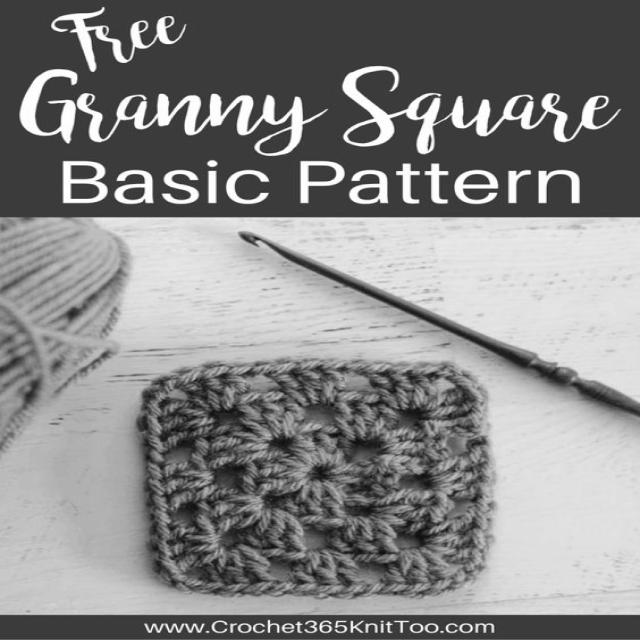ch: (445, 566, 474, 590), (147, 372, 181, 391), (160, 565, 188, 588), (444, 371, 477, 387), (247, 360, 280, 376), (386, 455, 412, 475), (139, 384, 167, 402), (429, 362, 462, 377), (458, 418, 486, 435), (437, 420, 465, 437), (477, 497, 498, 519), (140, 446, 164, 465), (146, 506, 172, 523), (264, 582, 294, 596), (467, 430, 488, 450), (342, 359, 378, 370), (356, 582, 382, 597), (173, 578, 199, 593), (463, 560, 485, 577), (406, 458, 424, 474)
dc: (419, 379, 487, 413), (355, 360, 401, 409), (420, 506, 493, 536), (232, 388, 272, 442), (327, 549, 370, 598), (265, 358, 309, 405), (138, 426, 217, 452), (194, 444, 270, 471), (420, 526, 494, 553), (237, 544, 276, 595), (429, 445, 493, 476), (194, 509, 266, 536), (137, 410, 218, 434), (196, 361, 235, 410), (146, 484, 218, 510), (189, 546, 227, 595), (144, 533, 221, 557), (173, 366, 213, 412), (289, 357, 328, 404), (152, 547, 225, 572), (218, 361, 256, 409), (376, 489, 456, 511), (309, 551, 345, 599), (334, 390, 367, 442), (215, 548, 250, 597), (317, 356, 352, 405), (418, 546, 452, 596), (347, 516, 383, 562), (410, 360, 442, 411), (400, 550, 433, 599), (290, 421, 326, 465), (389, 361, 422, 409), (257, 508, 289, 557), (419, 399, 487, 422), (255, 387, 285, 439), (381, 440, 451, 462), (366, 394, 399, 440), (378, 550, 411, 596), (298, 479, 328, 529), (434, 479, 494, 504), (142, 473, 213, 494), (288, 551, 321, 596), (430, 465, 494, 488), (314, 481, 345, 528), (256, 446, 314, 471), (196, 422, 265, 443), (422, 544, 487, 566), (274, 481, 311, 519), (193, 498, 263, 518), (137, 398, 206, 418), (367, 516, 397, 561), (281, 510, 308, 560), (243, 473, 307, 494), (195, 436, 262, 456), (354, 392, 382, 439), (144, 461, 213, 480), (145, 519, 214, 538), (378, 515, 442, 535), (373, 506, 451, 522), (241, 510, 272, 550), (379, 423, 434, 445), (329, 515, 357, 557), (313, 423, 340, 466), (195, 486, 262, 502), (281, 396, 305, 435), (329, 476, 395, 490), (246, 462, 306, 477), (325, 461, 378, 476), (330, 436, 354, 469)
